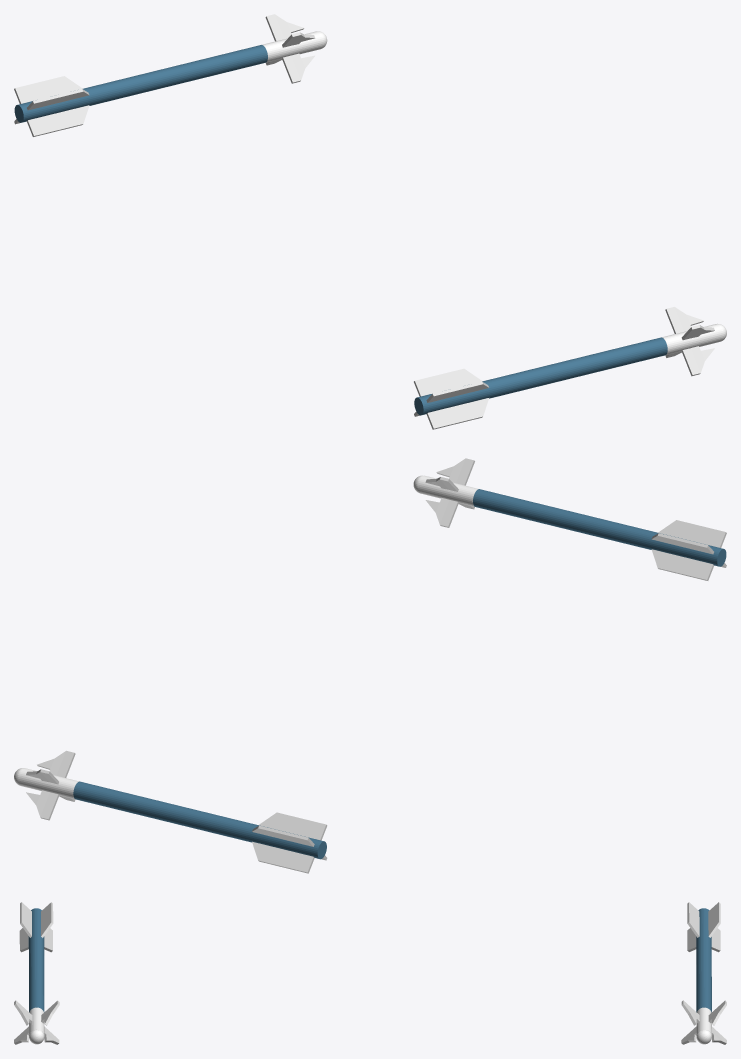
Rendered from aam3uf2a25.glb.
3 renders of one model, top to bottom at view 1: azimuth 30°, elevation 25°; view 2: azimuth 150°, elevation 25°; view 3: azimuth 270°, elevation 25°, orthographic. The views are drawn at different scales.
Parts seen in each view (by area): view 1: 球.003, 球.001; view 2: 球.003, 球.001; view 3: 球.001, 球.003.
Boxes of the visible parts, x1,y1,x2,y2 form: 球.003: (414, 307, 726, 429); 球.001: (14, 14, 327, 136); 球.003: (413, 458, 726, 580); 球.001: (14, 750, 327, 873); 球.001: (681, 902, 726, 1044); 球.003: (14, 902, 59, 1044).
Bounding box in the file's own units: 4.05 × 0.6241 × 9.75.
